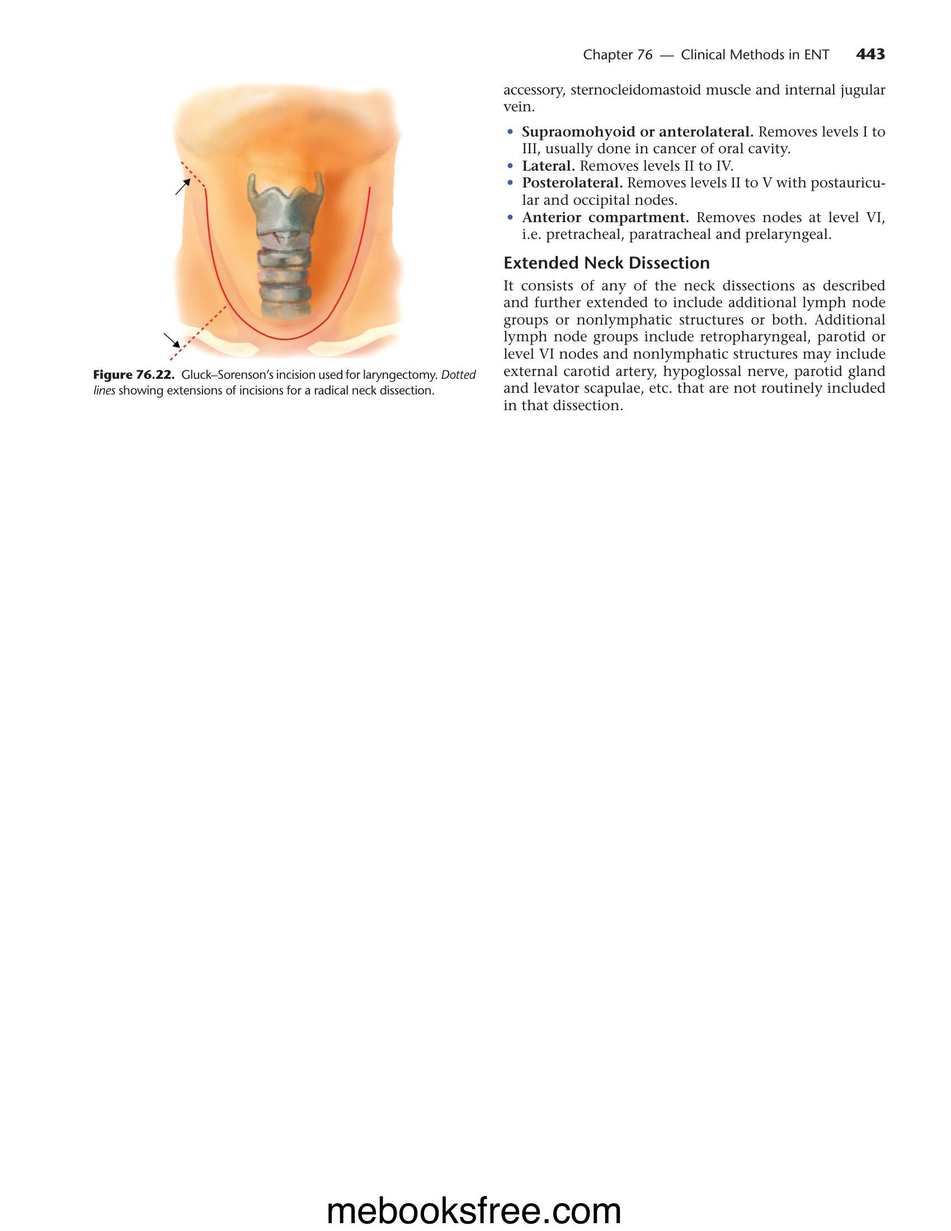caption: (91, 367, 477, 399)
header: (581, 47, 831, 64)
image: (111, 73, 462, 365)
list: (503, 123, 887, 244)
sub-section-heading: (504, 254, 710, 270)
text: (502, 279, 887, 412), (502, 82, 887, 114)
